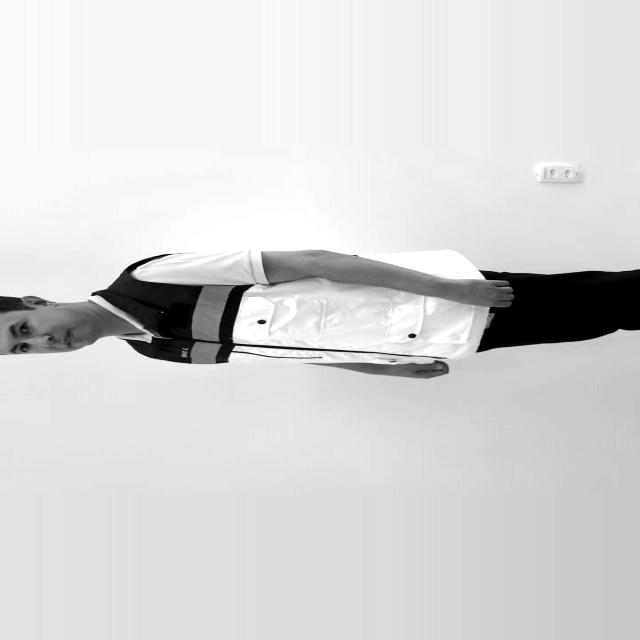Vest: (118, 277, 486, 364)
